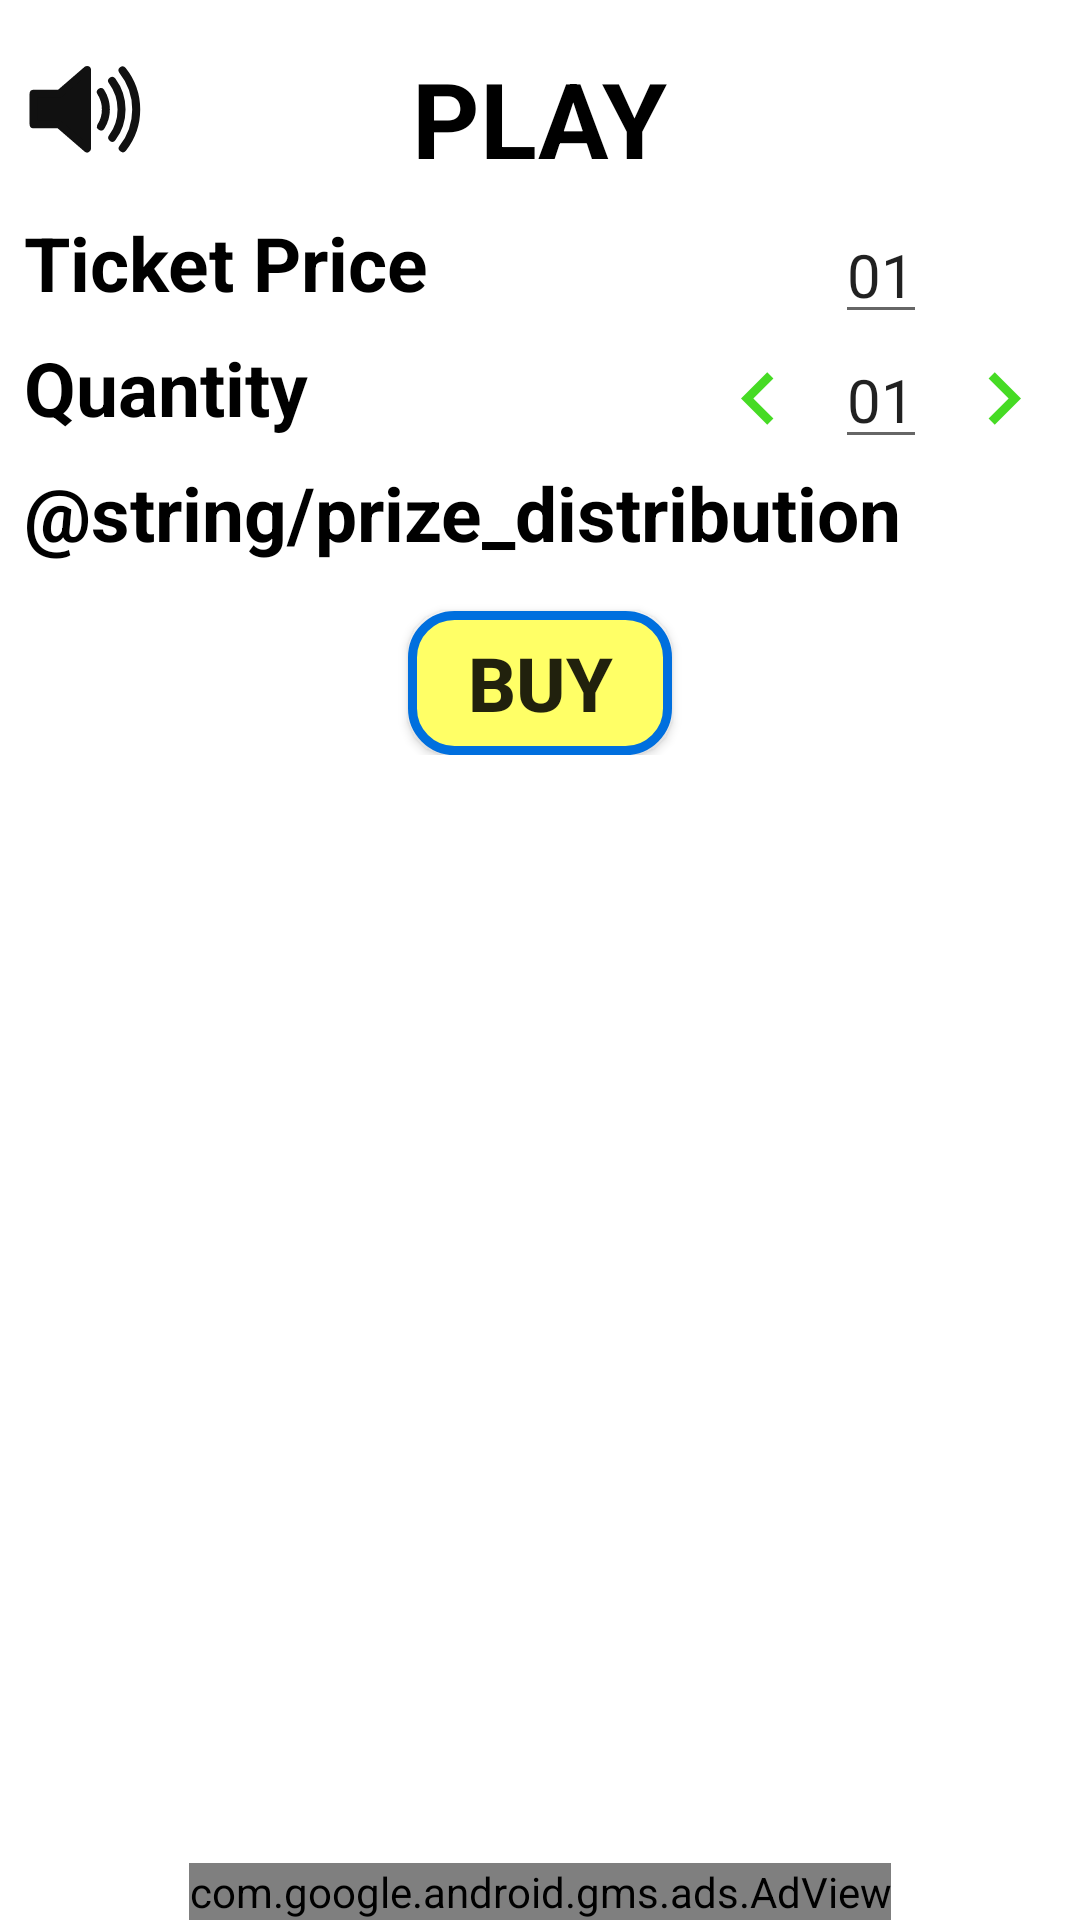

Locate icon controls on the screen. Image size 1080×1920, boxes as (x1, y1, x2, y2).
left arrow: (741, 372, 774, 425)
right arrow: (988, 372, 1021, 425)
speaker: (29, 66, 141, 153)
